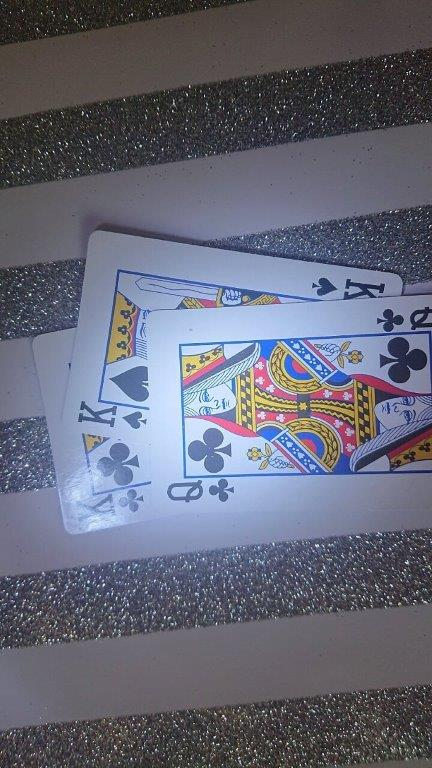KC: (50, 450, 143, 537)
KS: (61, 227, 143, 447)
QC: (143, 293, 432, 520)
